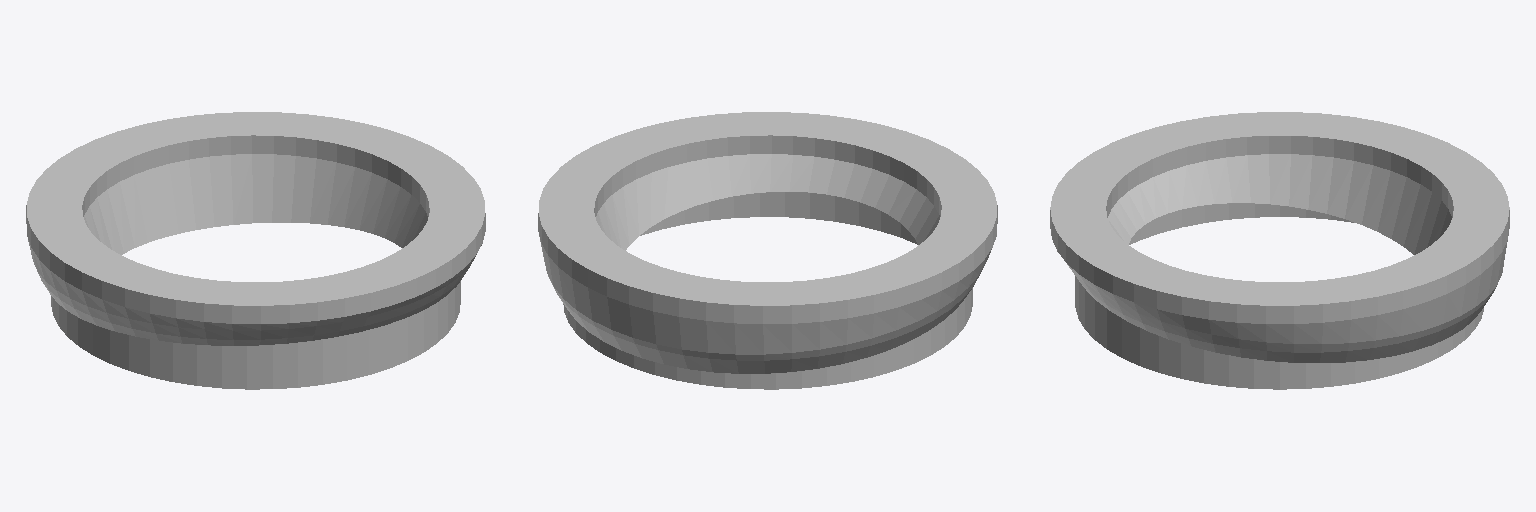
File: InfoDesk.obj
3 renders of one model, left to right at view 1: azimuth 30°, elevation 25°; view 2: azimuth 150°, elevation 25°; view 3: azimuth 270°, elevation 25°, orthographic.
Visible parts, largest first — view 1: Tube001, Tube_2_3; view 2: Tube001, Tube_2_3; view 3: Tube001, Tube_2_3.
Part boxes in pixels (bbox=[...]): Tube001: bbox=[26, 112, 485, 345]; Tube_2_3: bbox=[51, 281, 460, 389]; Tube001: bbox=[538, 112, 997, 373]; Tube_2_3: bbox=[563, 192, 972, 389]; Tube001: bbox=[1050, 112, 1509, 362]; Tube_2_3: bbox=[1075, 203, 1483, 389].
Size of the model in its own units: 63.77 by 14.45 by 63.89.